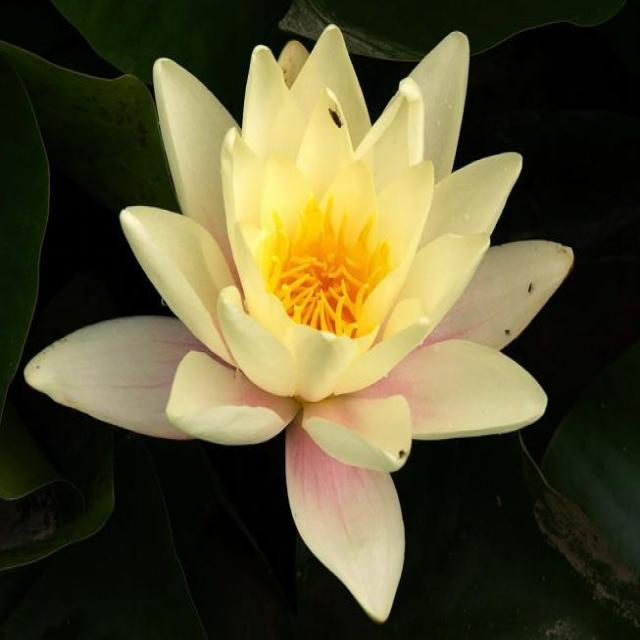water-lily: (83, 19, 595, 565)
